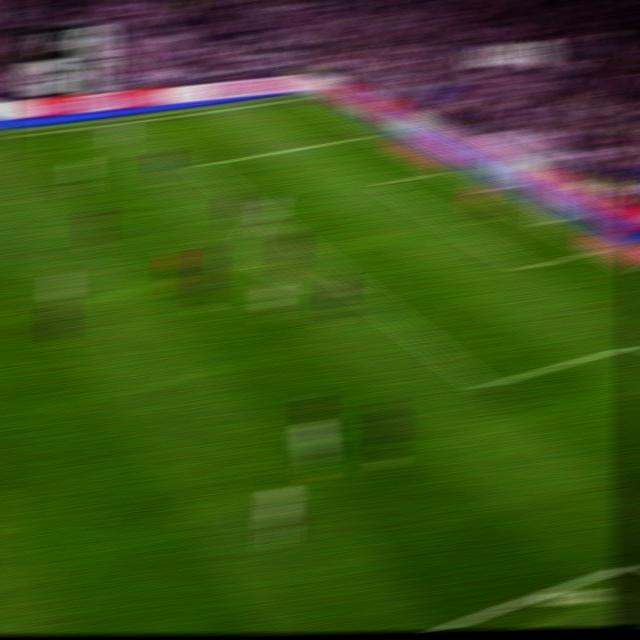bigarea_bottom_inner: (471, 372, 496, 399)
bigarea_top_inner: (190, 159, 209, 171)
bigarea_top_outter: (361, 128, 380, 138)
bottom_arc_area_intersection: (350, 282, 373, 299)
corner: (292, 92, 313, 101)
smallarea_top_inner: (376, 178, 393, 187)
top_arc_area_intersection: (254, 210, 273, 221)
